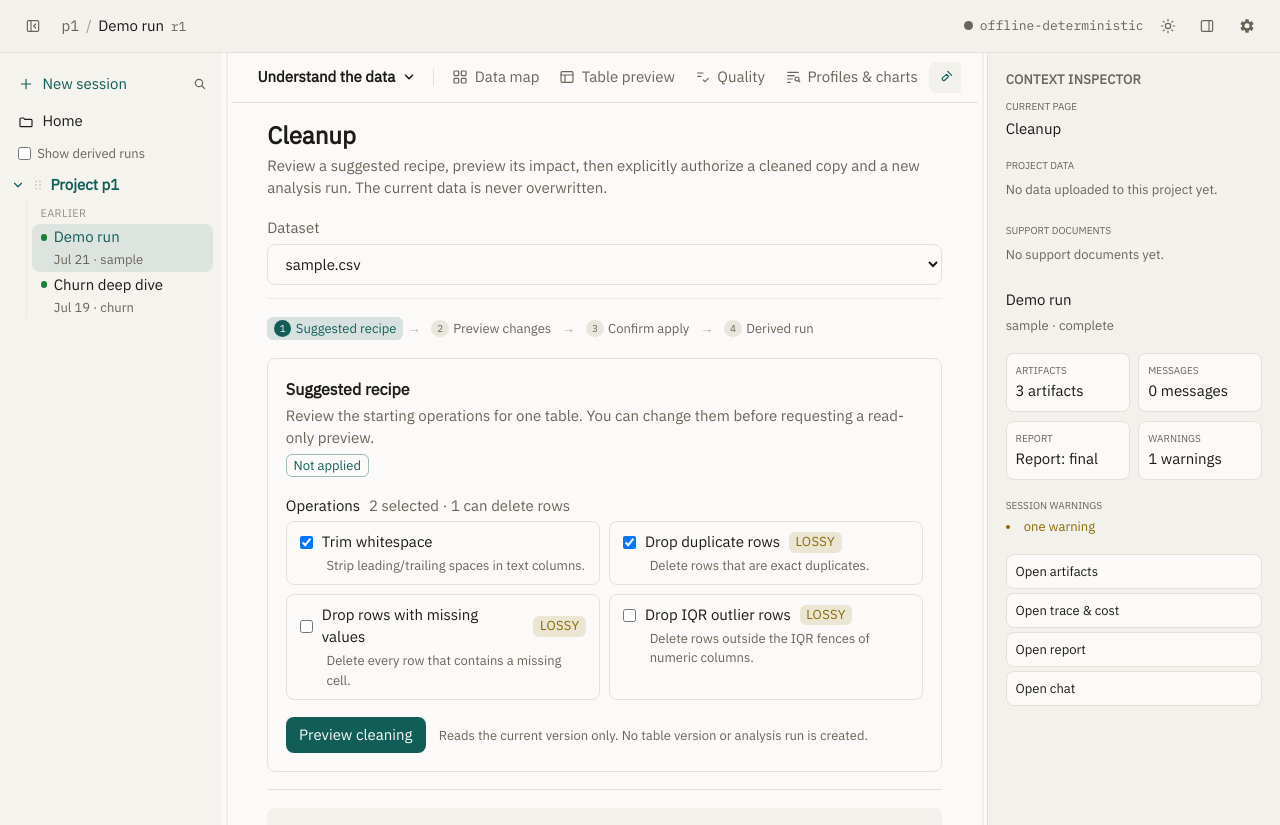
Test: Cleaning page › applies after confirmation, tracks the fork job, and navigates to the new run
Step 1. Click the button "Preview cleaning" → coordinates (356, 735), box [286,717,426,753]
(page scrolled)
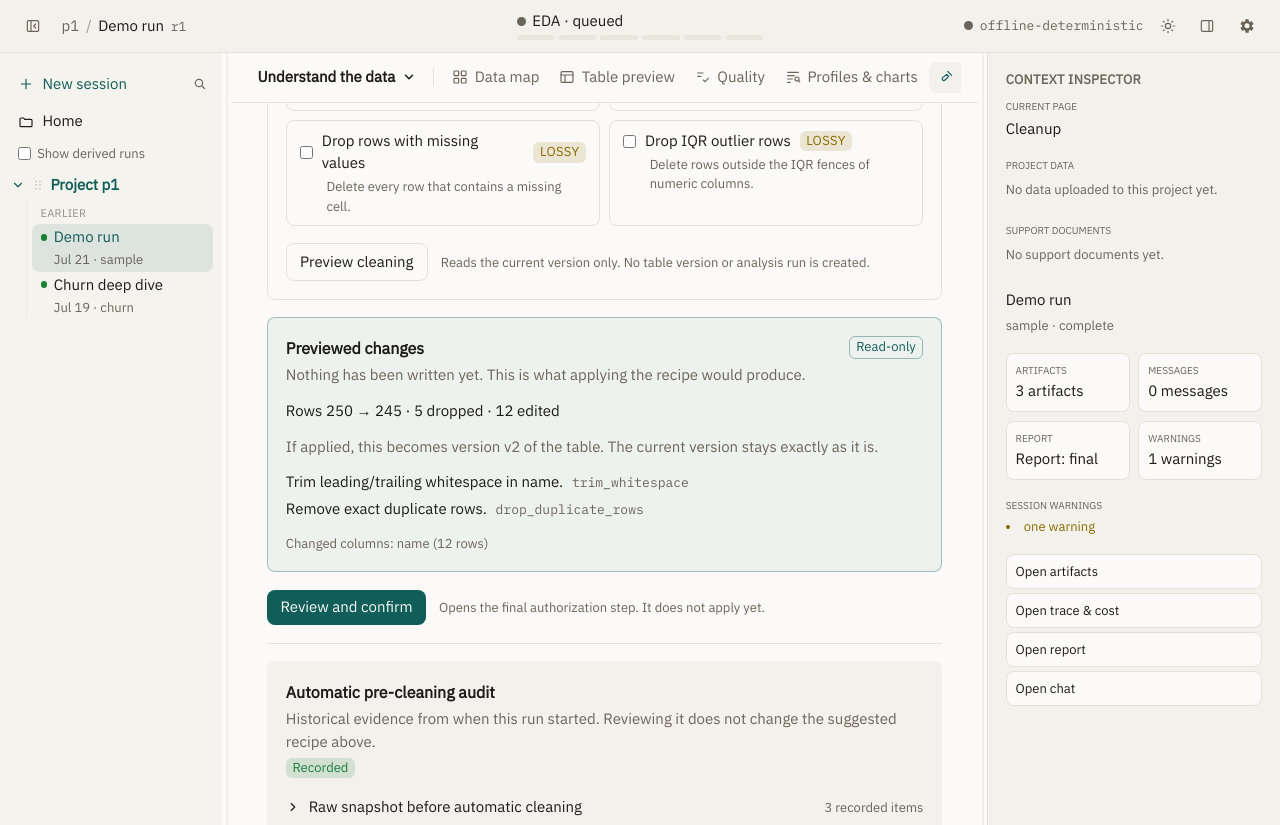
Step 2. Click the button "Review and confirm" → coordinates (347, 607), box [267,590,426,625]
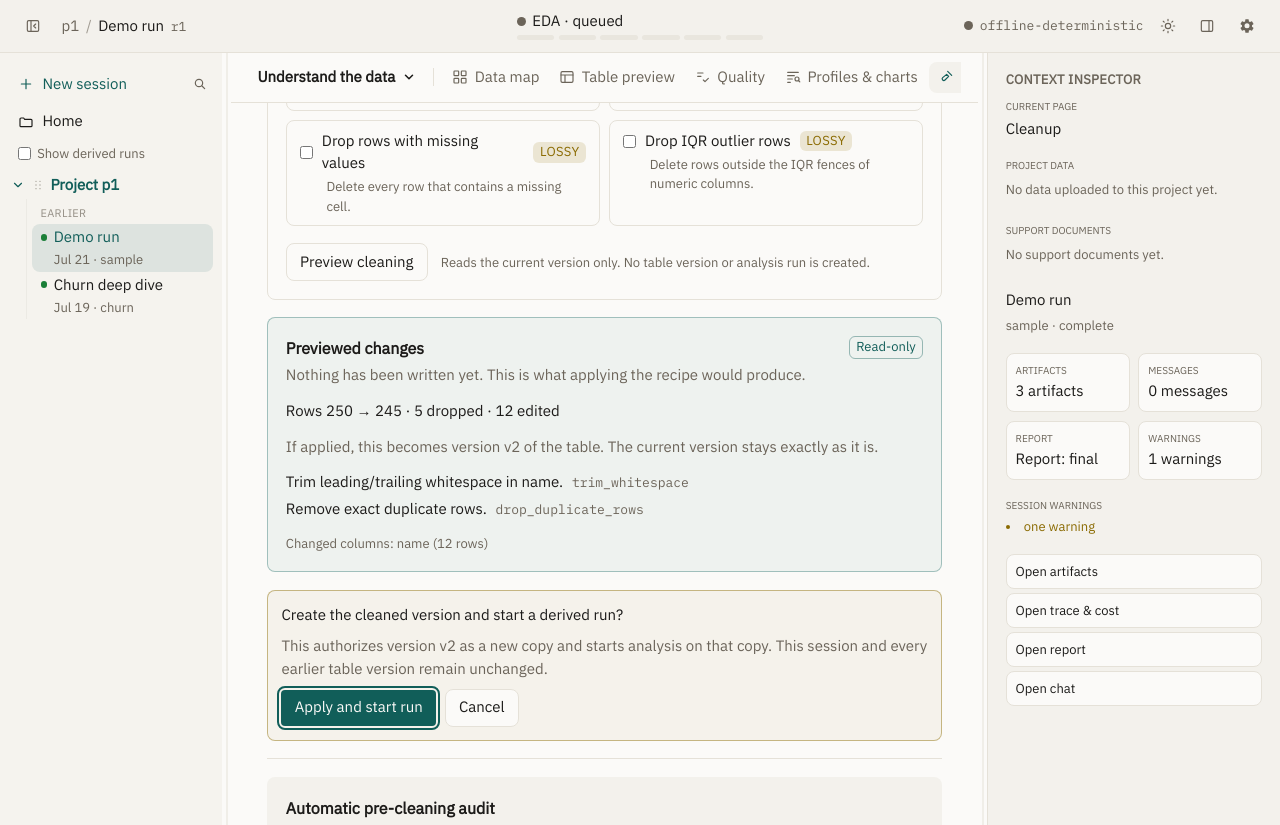
# Two-step confirmation before the destructive-ish action fires.
Step 3. Click the button "Apply and start run" → coordinates (359, 708), box [282,690,436,726]
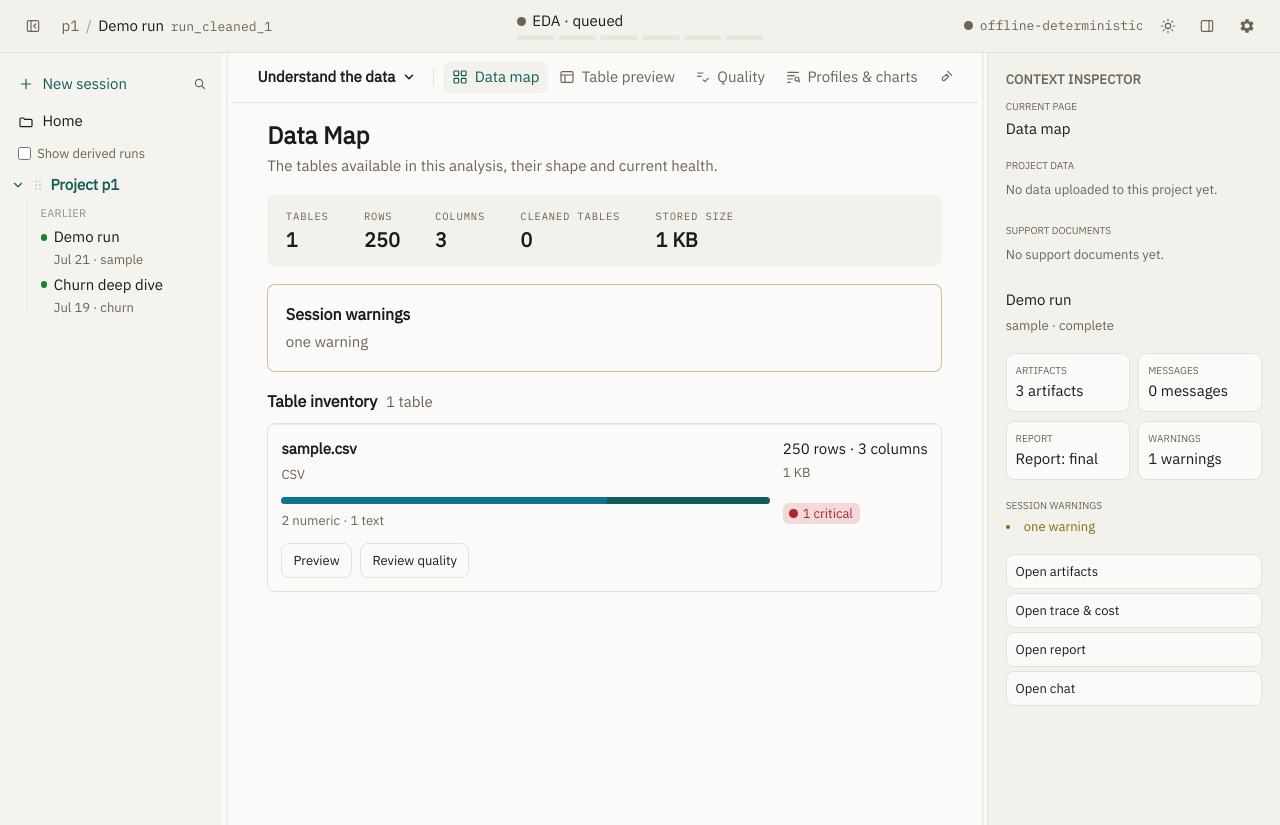
Result: the heading "Data Map" is shown at [267,119,369,151]
